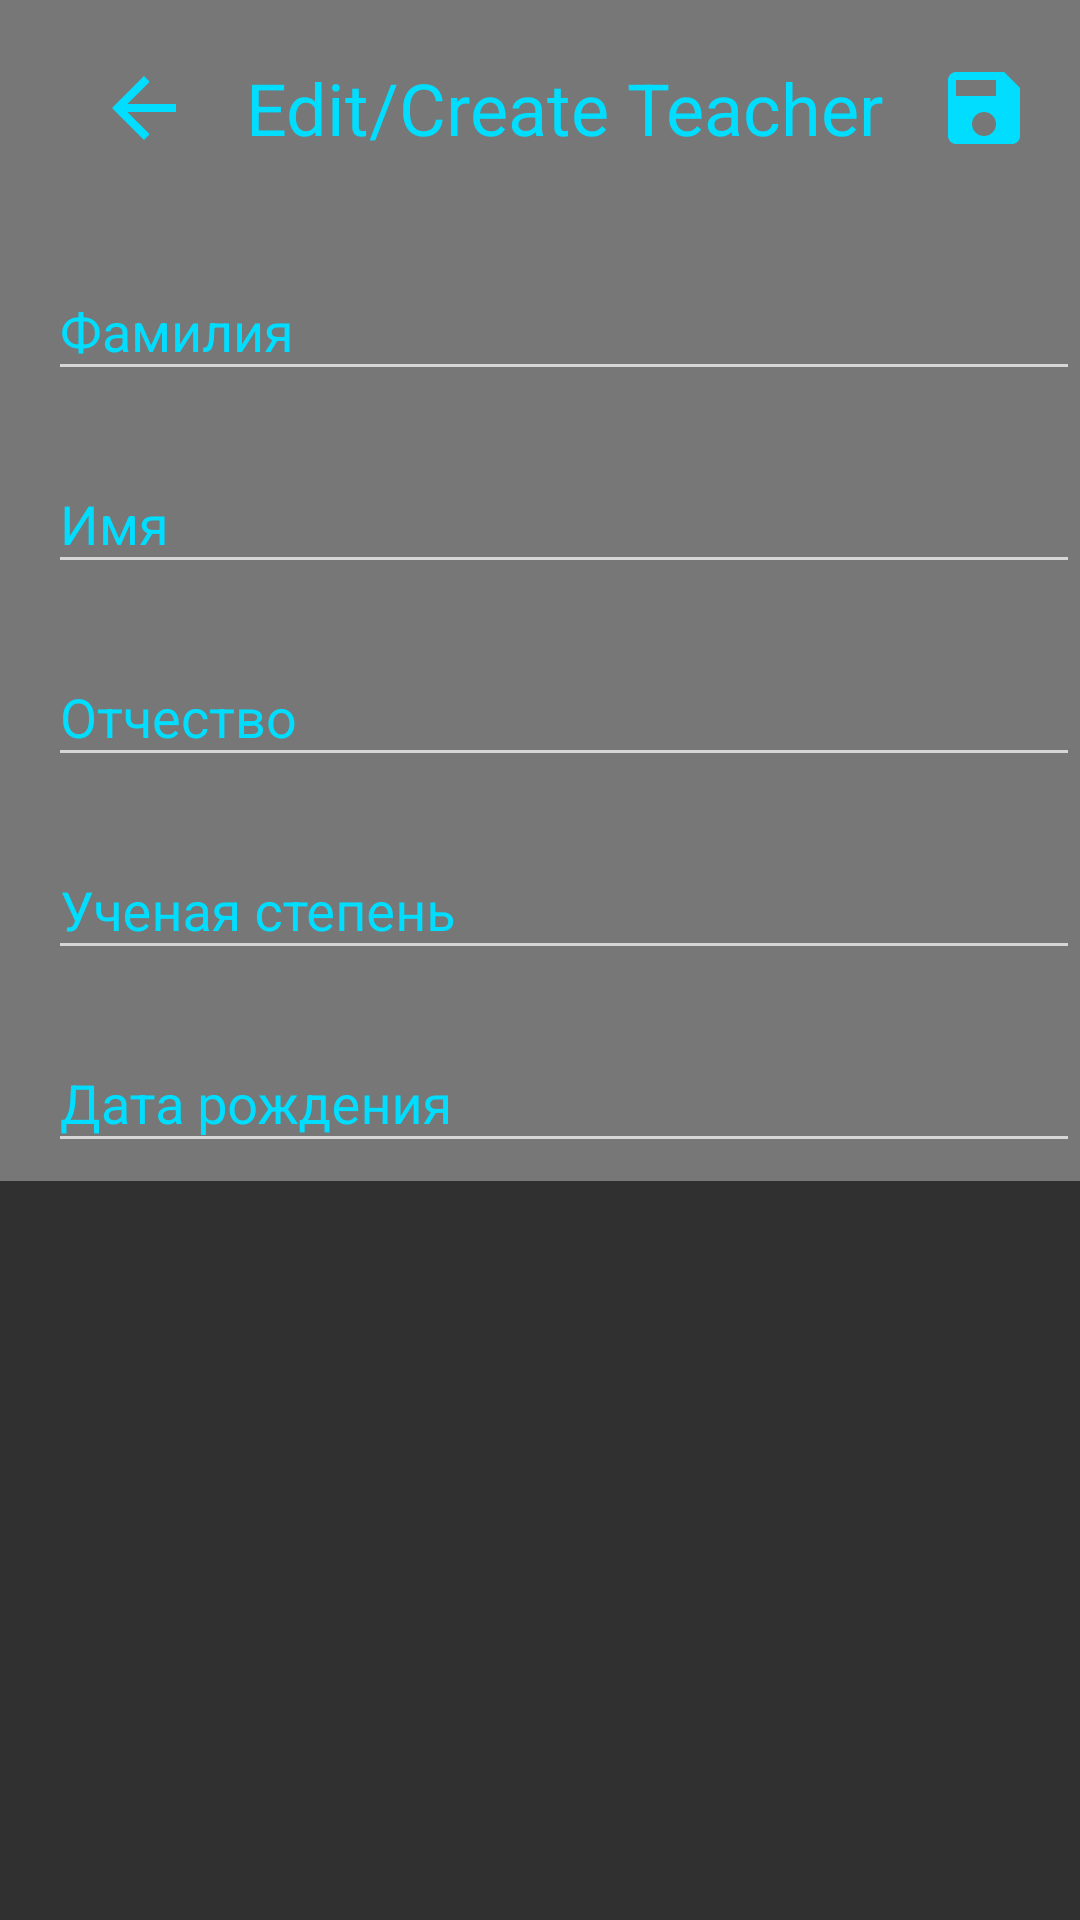

Screen size 1080 x 1920. Icon name, then its center in pixels as (x,y):
arrow back: (144,108)
save: (984,108)
